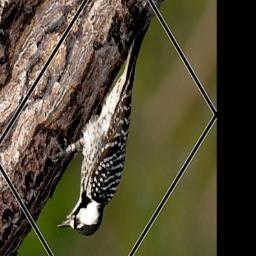Woodpecker: (28, 0, 188, 256)
